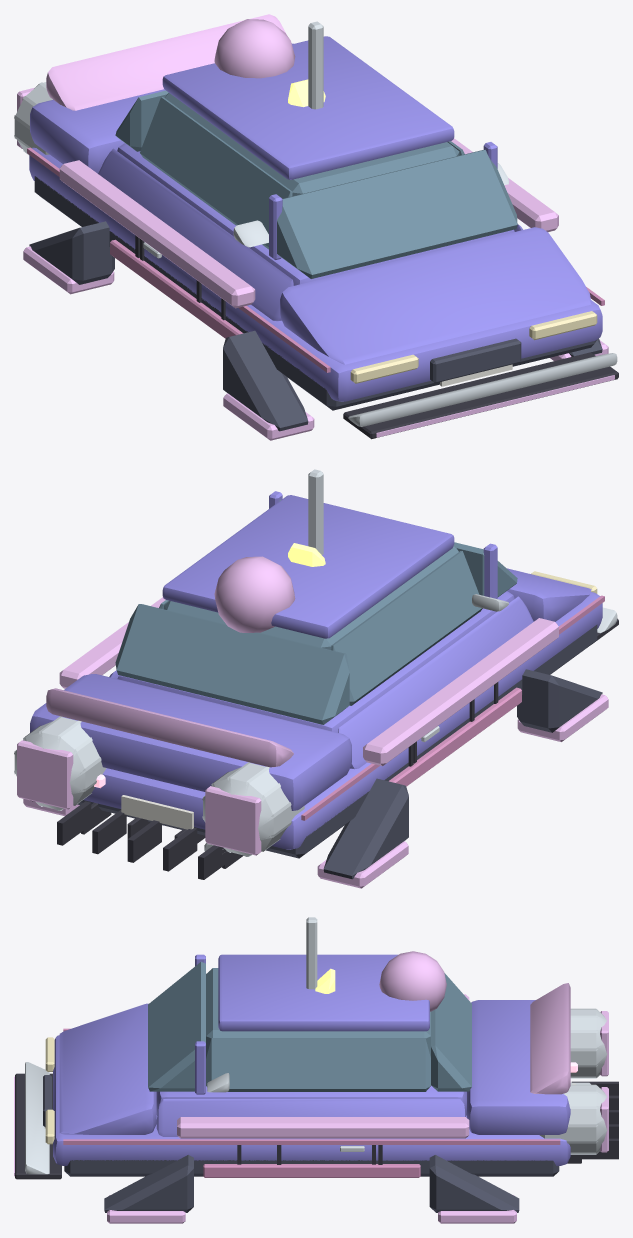
The model's file is flux_flyer.fbx.
3 views of the same model, one above another, from view 1: azimuth 30°, elevation 25°; view 2: azimuth 150°, elevation 25°; view 3: azimuth 270°, elevation 25° (orthographic). The views are drawn at different scales.
Parts seen in each view (by area): view 1: Body, Glass, Light, Trim2, Accent3, Accent, Trim, Accent2, Light2; view 2: Body, Glass, Light, Trim2, Accent, Accent3, Trim, Accent2, Accent4, Light4; view 3: Body, Glass, Light, Trim2, Accent, Accent2, Accent3, Trim, Light2.
Part boxes in pixels (x1=…): Body: x1=29, y1=36, x2=602, y2=401; Glass: x1=115, y1=90, x2=517, y2=278; Light: x1=17, y1=19, x2=614, y2=440; Trim2: x1=29, y1=176, x2=602, y2=431; Accent3: x1=46, y1=14, x2=286, y2=110; Accent: x1=14, y1=21, x2=617, y2=426; Trim: x1=135, y1=235, x2=618, y2=439; Accent2: x1=27, y1=147, x2=604, y2=372; Light2: x1=350, y1=311, x2=597, y2=383; Body: x1=30, y1=491, x2=602, y2=849; Glass: x1=115, y1=499, x2=517, y2=724; Light: x1=17, y1=556, x2=608, y2=888; Trim2: x1=30, y1=624, x2=602, y2=879; Accent: x1=14, y1=469, x2=617, y2=856; Accent3: x1=46, y1=688, x2=293, y2=767; Trim: x1=57, y1=618, x2=618, y2=879; Accent2: x1=301, y1=595, x2=604, y2=820; Accent4: x1=121, y1=795, x2=193, y2=829; Light4: x1=288, y1=543, x2=325, y2=566; Body: x1=53, y1=954, x2=570, y2=1165; Glass: x1=148, y1=961, x2=471, y2=1091; Light: x1=14, y1=951, x2=608, y2=1223; Trim2: x1=43, y1=1075, x2=559, y2=1212; Accent: x1=25, y1=917, x2=607, y2=1174; Accent2: x1=63, y1=1028, x2=560, y2=1177; Accent3: x1=530, y1=983, x2=570, y2=1094; Trim: x1=15, y1=1073, x2=618, y2=1179; Light2: x1=45, y1=1037, x2=54, y2=1144.
Bounding box in the file's own units: 2.9 × 2.33 × 5.38.
